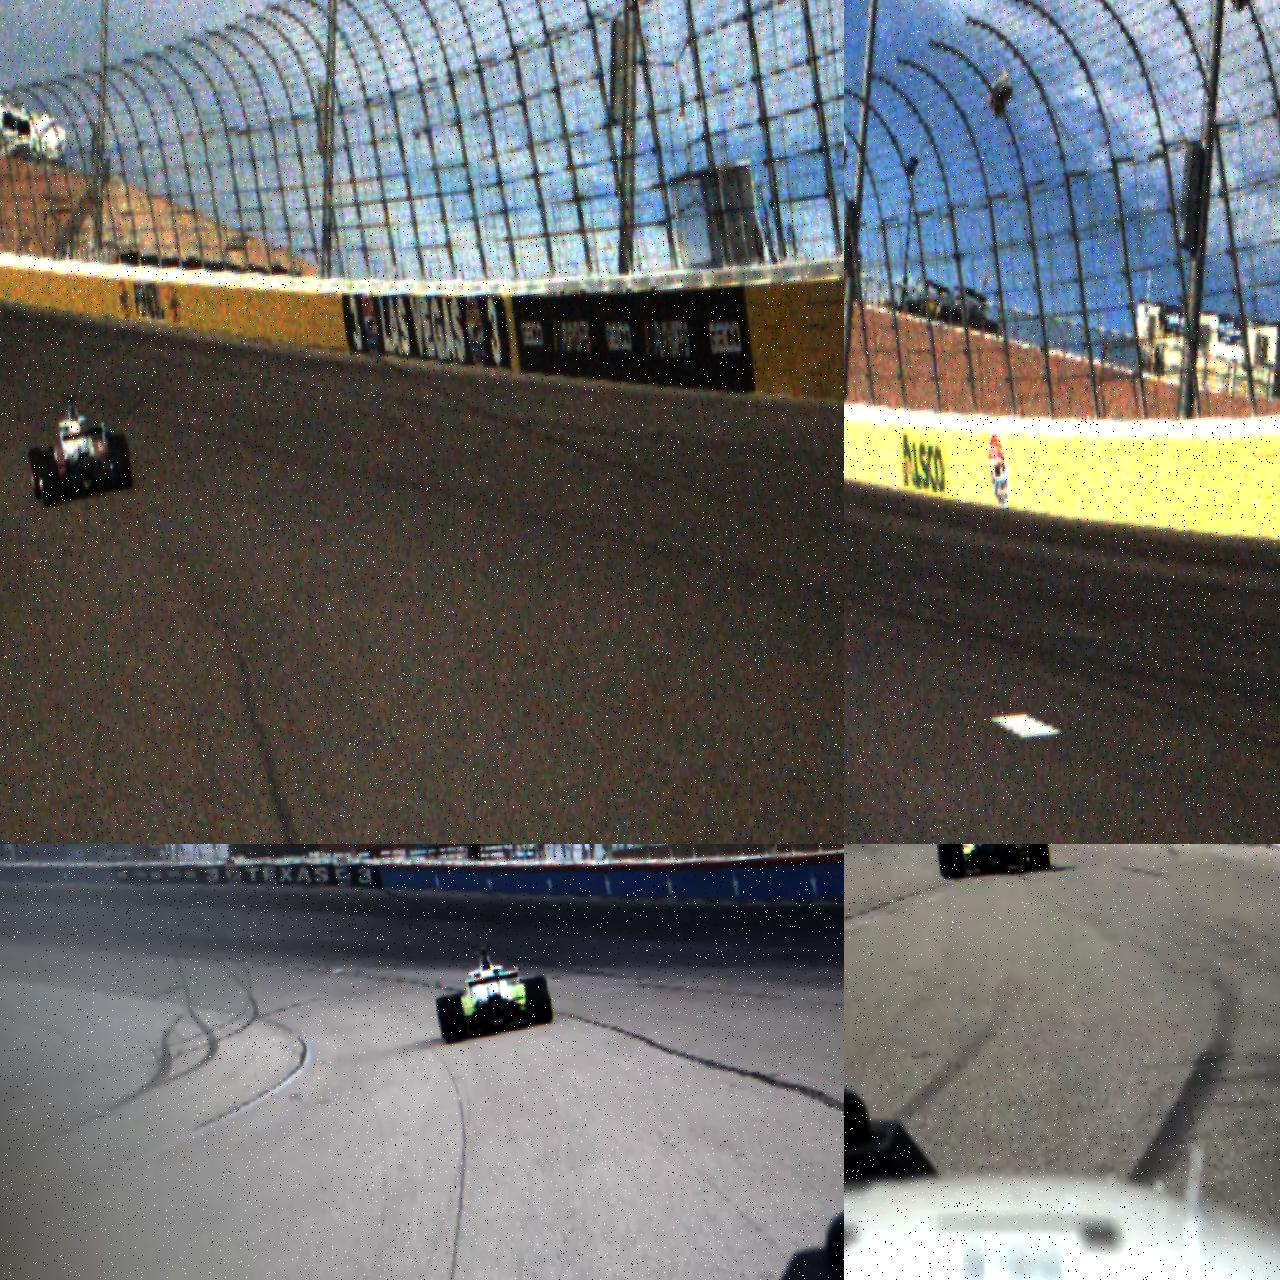AV: (23, 388, 135, 508), (432, 940, 554, 1046), (932, 844, 1051, 881)
Wheel: (438, 995, 468, 1044), (524, 976, 553, 1026), (109, 434, 134, 491), (38, 450, 61, 508), (28, 446, 48, 501), (940, 844, 967, 880), (1024, 844, 1050, 870)
